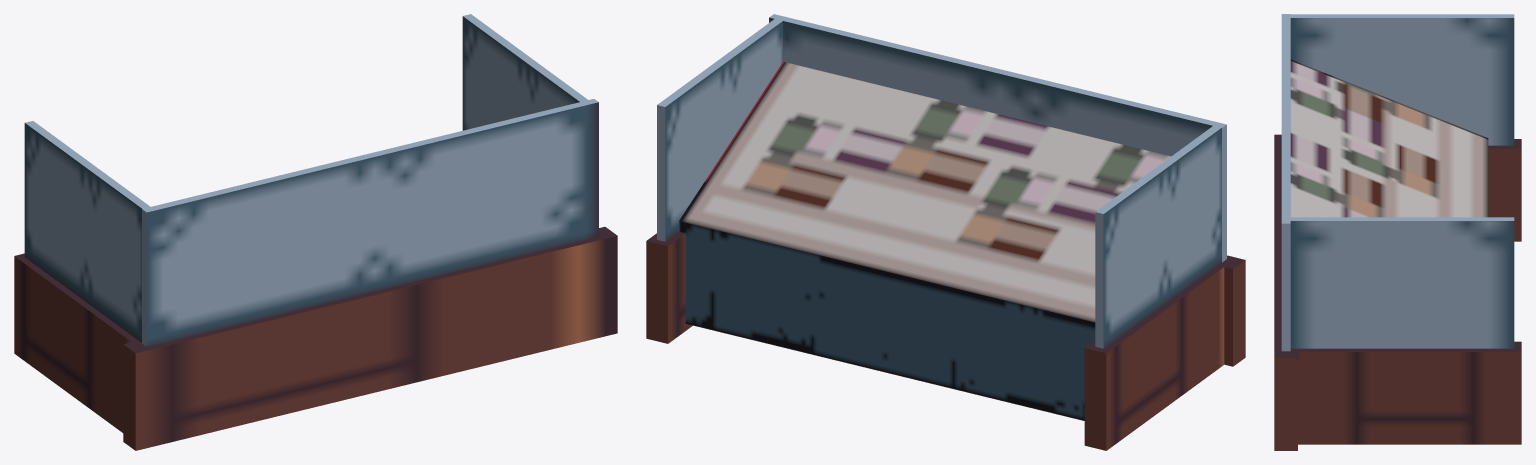
The model's file is Estante2.fbx.
3 views of the same model, side by side, from view 1: azimuth 30°, elevation 25°; view 2: azimuth 150°, elevation 25°; view 3: azimuth 270°, elevation 25° (orthographic). The views are drawn at different scales.
Visible parts, largest first — view 1: Estante2; view 2: Estante2; view 3: Estante2.
Part boxes in pixels (x1=…): Estante2: x1=14, y1=14, x2=617, y2=450; Estante2: x1=646, y1=14, x2=1245, y2=450; Estante2: x1=1274, y1=14, x2=1521, y2=450.
Size of the model in its own units: 300 by 138 by 140.
